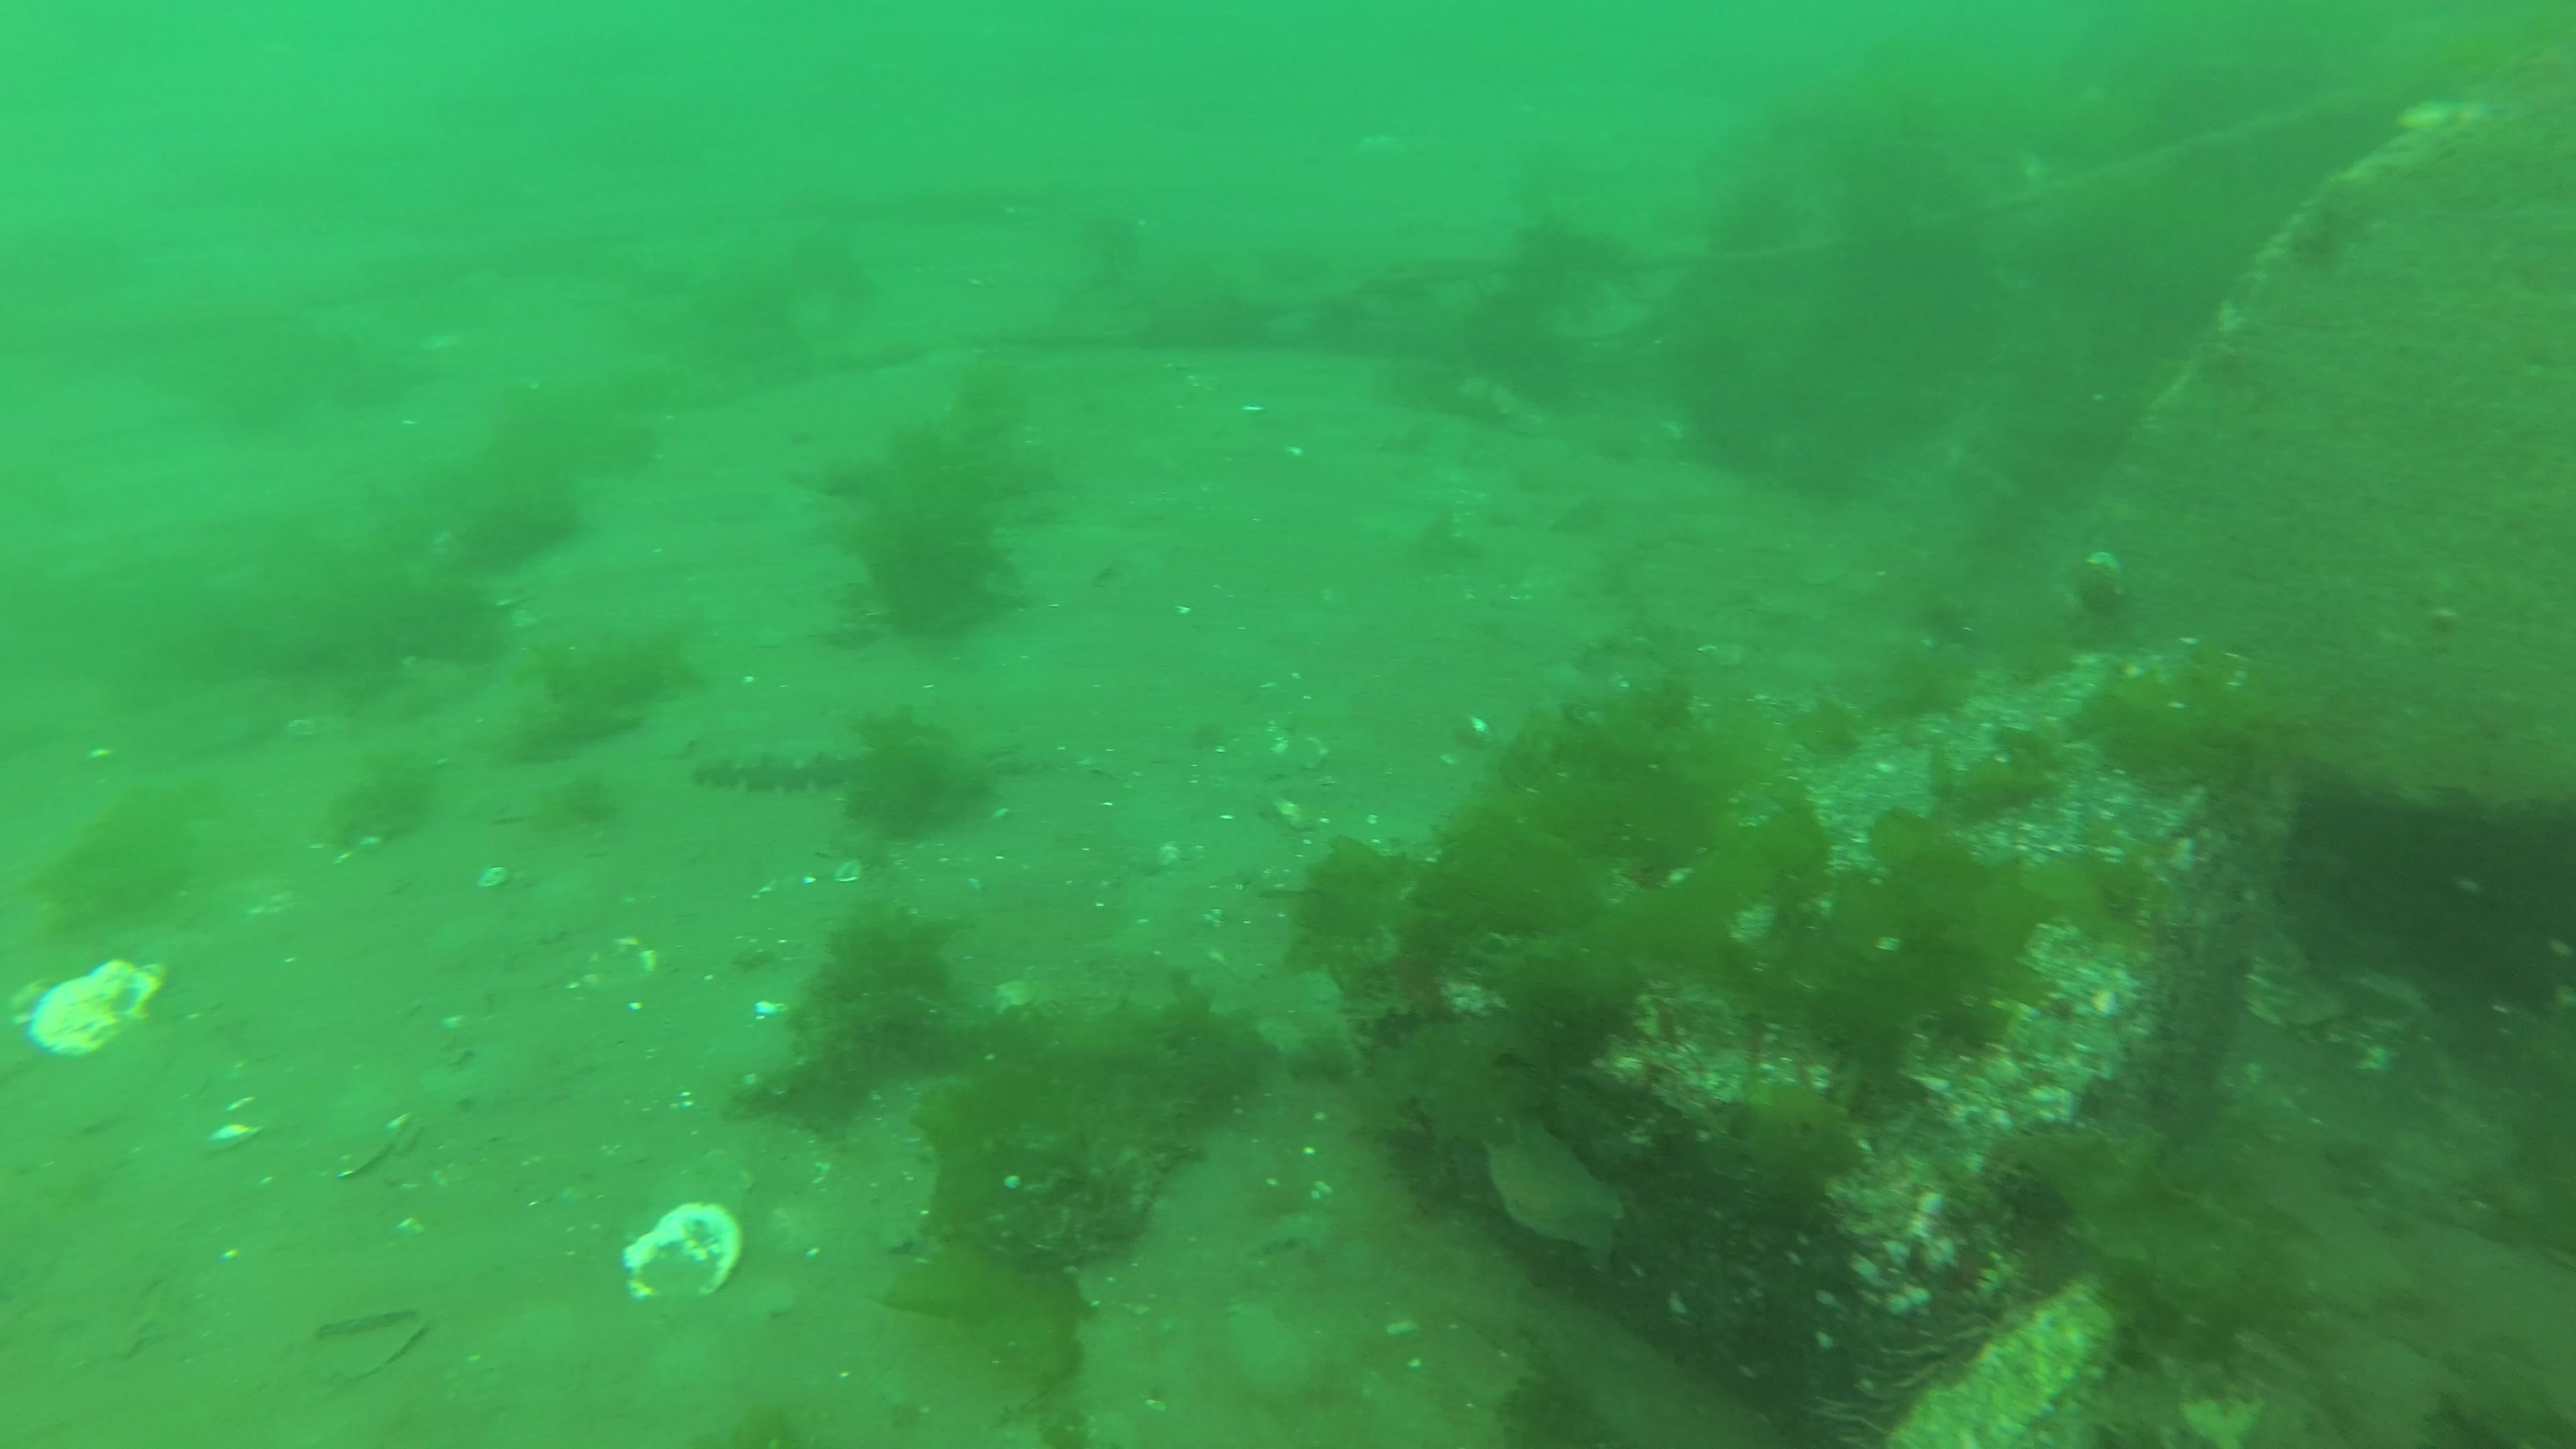holothurian: (690, 734, 860, 801)
scallop: (610, 1200, 750, 1302), (28, 957, 166, 1060)
starfish: (1484, 1109, 1629, 1283)
